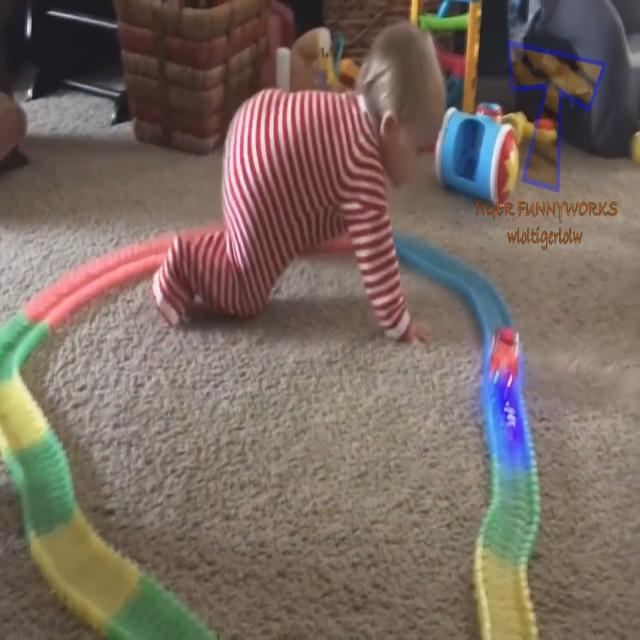safe: (159, 0, 450, 363)
